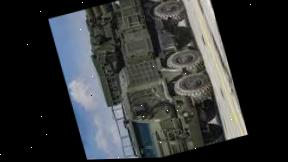truck: (65, 0, 228, 160)
